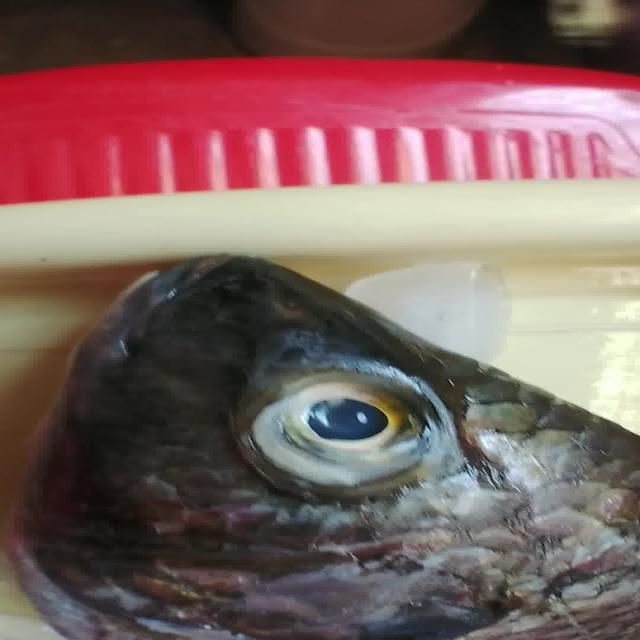Fresh: (204, 349, 470, 490)
